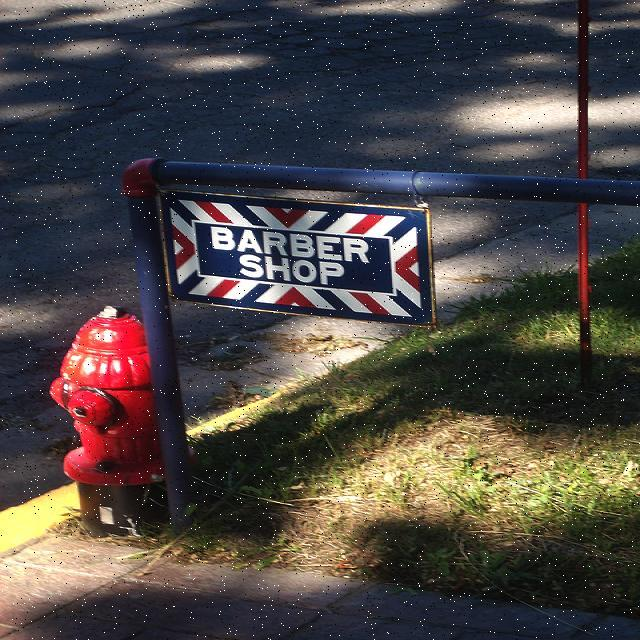fire_hydrant: (50, 304, 196, 538)
